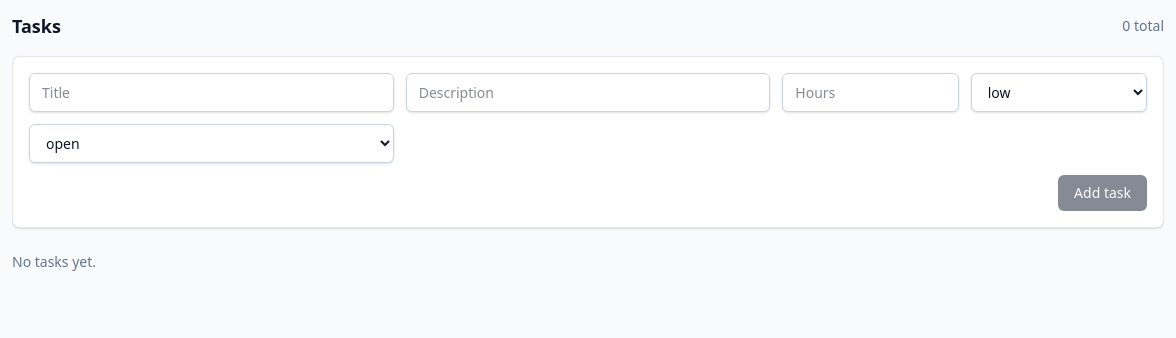
Scenario: Tasks › creates a new task and prepends it to the list
Check: the text "No tasks yet." is shown, box [12,252,96,271]
Type "Plan sprint" into the field with placeholder "Title" at (211, 92), box [29,73,394,112]
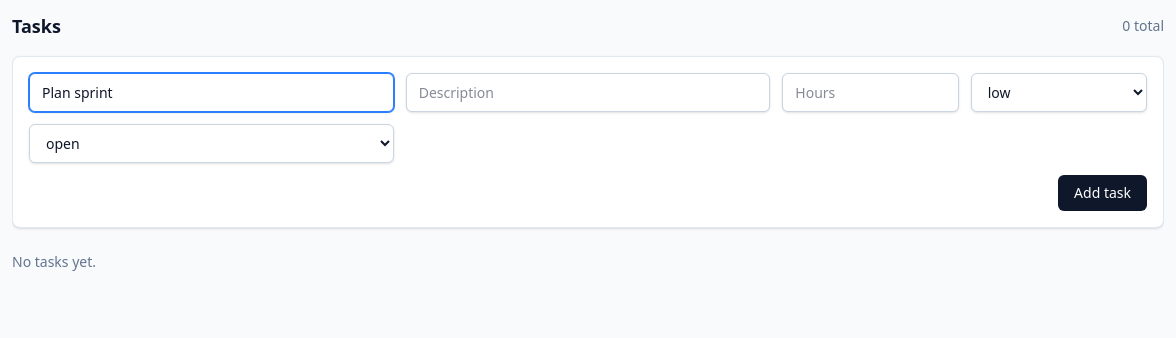
Type "4" into the number field with placeholder "Hours" at (870, 92), box [782,73,959,112]
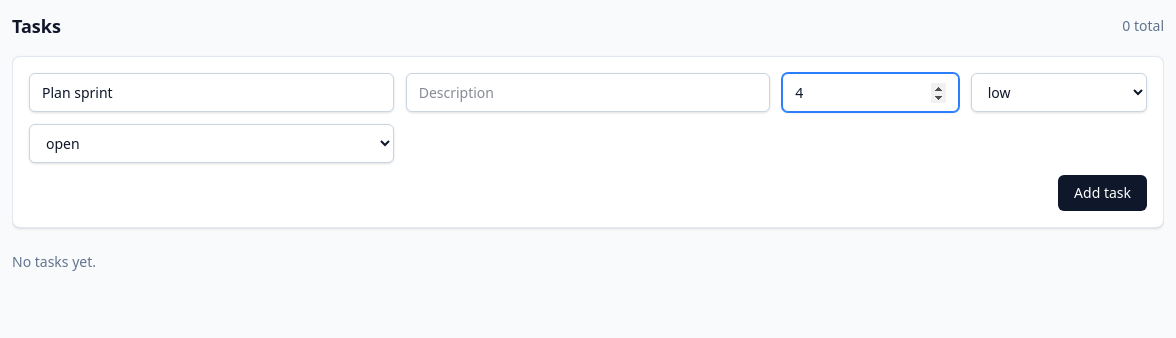
Click the button "Add task" at (1103, 193), box [1058,175,1147,211]
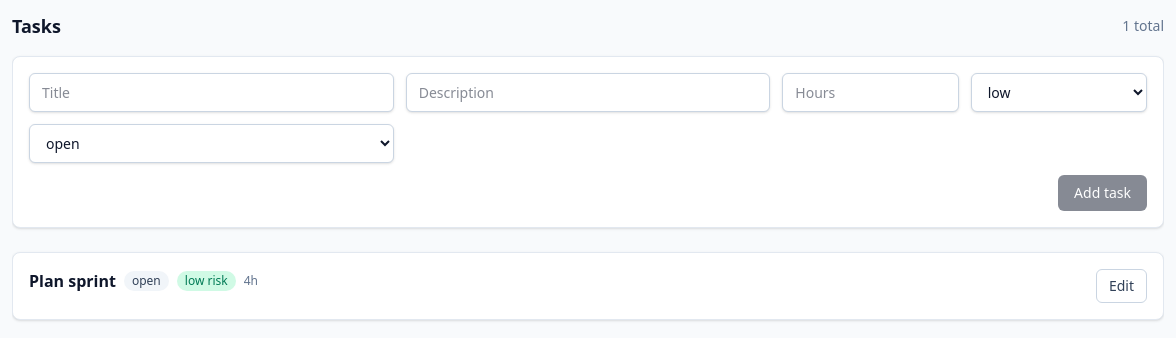
Check: the heading "Plan sprint" is shown, box [29,269,116,293]
